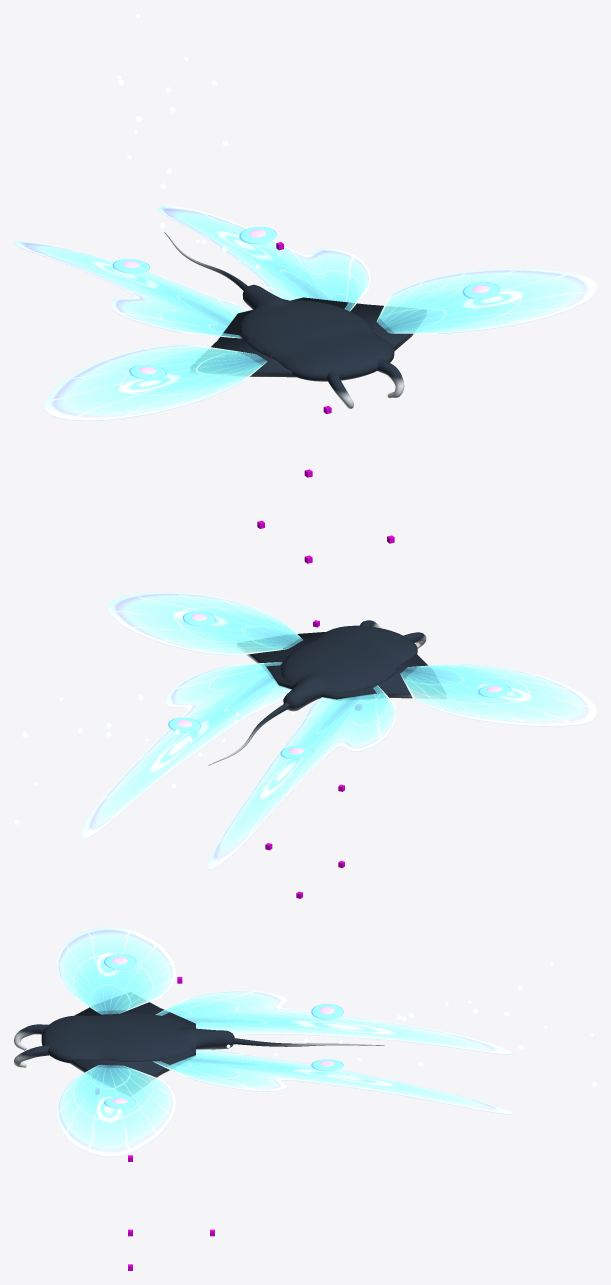
The model's file is 04_manta_luminescente.glb.
The picture shows the model from 3 angles, top to bottom: view 1: azimuth 30°, elevation 25°; view 2: azimuth 150°, elevation 25°; view 3: azimuth 270°, elevation 25°; orthographic projection. The views are drawn at different scales.
Visible parts, largest first — view 1: Manta__Pelle__Galleggiamento, Manta__Ali_Falena_Luna__AlaAnt_L, Manta__Ali_Falena_Luna__AlaAnt_R, Manta__Ali_Falena_Luna__AlaPost_R, Manta__Ali_Falena_Luna__AlaPost_L; view 2: Manta__Pelle__Galleggiamento, Manta__Ali_Falena_Luna__AlaPost_R, Manta__Ali_Falena_Luna__AlaPost_L, Manta__Ali_Falena_Luna__AlaAnt_L, Manta__Ali_Falena_Luna__AlaAnt_R; view 3: Manta__Pelle__Galleggiamento, Manta__Ali_Falena_Luna__AlaPost_L, Manta__Ali_Falena_Luna__AlaAnt_R, Manta__Ali_Falena_Luna__AlaAnt_L, Manta__Ali_Falena_Luna__AlaPost_R.
Boxes of the visible parts, <box> form: Manta__Pelle__Galleggiamento: <box>164,232,413,408</box>; Manta__Ali_Falena_Luna__AlaAnt_L: <box>43,344,267,420</box>; Manta__Ali_Falena_Luna__AlaAnt_R: <box>376,268,596,333</box>; Manta__Ali_Falena_Luna__AlaPost_R: <box>157,206,370,311</box>; Manta__Ali_Falena_Luna__AlaPost_L: <box>14,241,248,338</box>; Manta__Pelle__Galleggiamento: <box>208,620,427,765</box>; Manta__Ali_Falena_Luna__AlaPost_R: <box>81,662,291,839</box>; Manta__Ali_Falena_Luna__AlaPost_L: <box>207,685,396,869</box>; Manta__Ali_Falena_Luna__AlaAnt_L: <box>400,664,596,726</box>; Manta__Ali_Falena_Luna__AlaAnt_R: <box>107,592,302,655</box>; Manta__Pelle__Galleggiamento: <box>14,1002,384,1077</box>; Manta__Ali_Falena_Luna__AlaPost_L: <box>155,990,512,1054</box>; Manta__Ali_Falena_Luna__AlaAnt_R: <box>56,1065,175,1156</box>; Manta__Ali_Falena_Luna__AlaAnt_L: <box>56,927,175,1014</box>; Manta__Ali_Falena_Luna__AlaPost_R: <box>153,1049,511,1114</box>.
Bounding box in the file's own units: 9.93 × 6.13 × 10.67.
7 materials, 2 textured.
